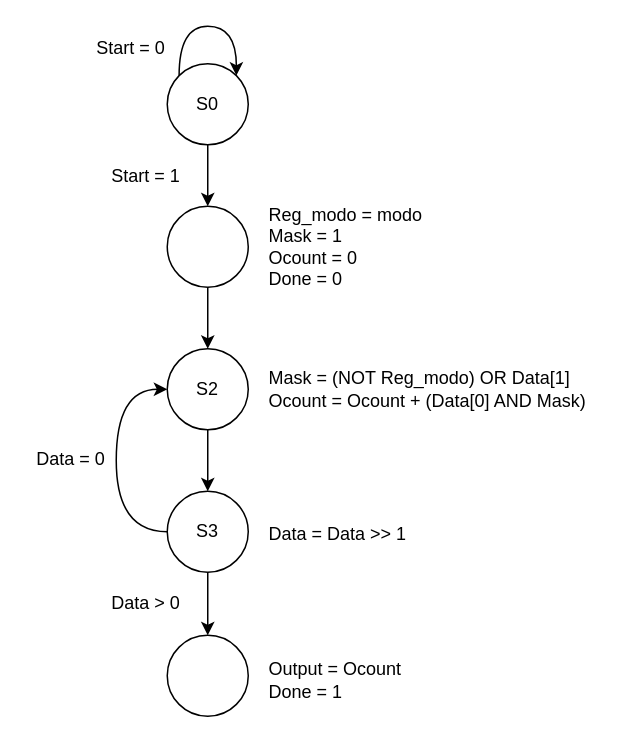
Image size: 621x743. Some labels were removed from this diagram. The centre of each missing label's shape, as x and y in pixels:
S1: the point at 207,246
S4: the point at 207,675
